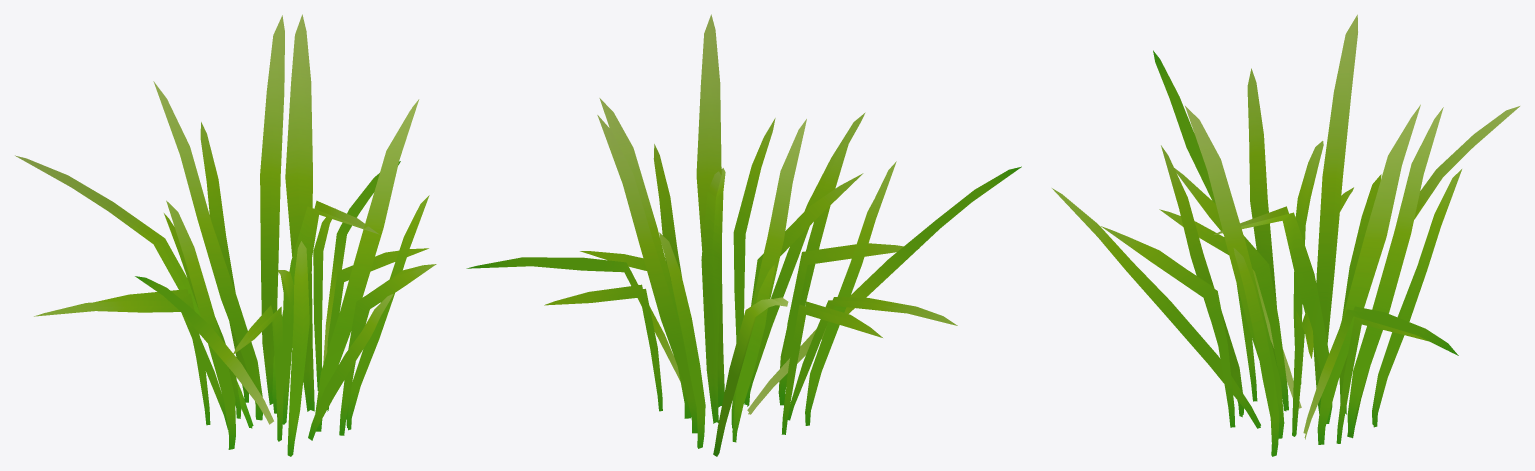
The picture shows the model from 3 angles, left to right: view 1: azimuth 30°, elevation 25°; view 2: azimuth 150°, elevation 25°; view 3: azimuth 270°, elevation 25°; orthographic projection. The views are drawn at different scales.
Parts seen in each view (by area): view 1: Grass_Wispy_Short; view 2: Grass_Wispy_Short; view 3: Grass_Wispy_Short.
Boxes of the visible parts, x1,y1,x2,y2 form: Grass_Wispy_Short: (15,14,436,456); Grass_Wispy_Short: (466,14,1021,456); Grass_Wispy_Short: (1052,14,1519,456).
Size of the model in its own units: 1.32 by 1.07 by 1.21.
1 material, 1 textured.
